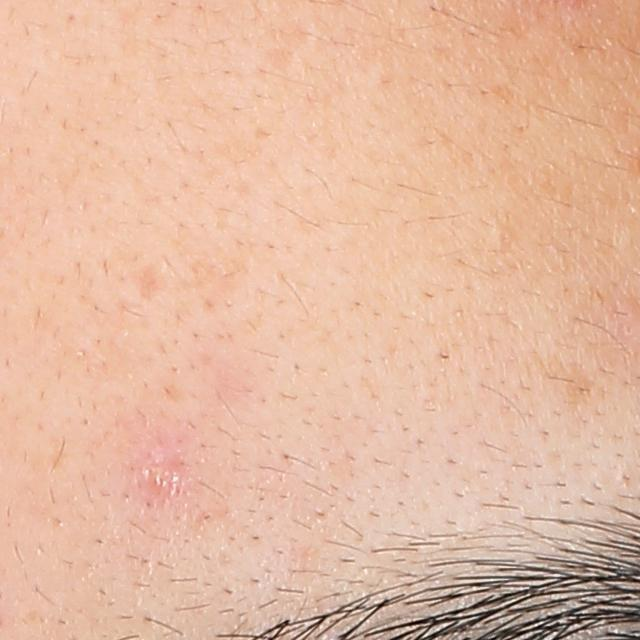atrophic_scar: (267, 12, 314, 70), (130, 261, 167, 305)
comedo: (485, 221, 511, 255)
